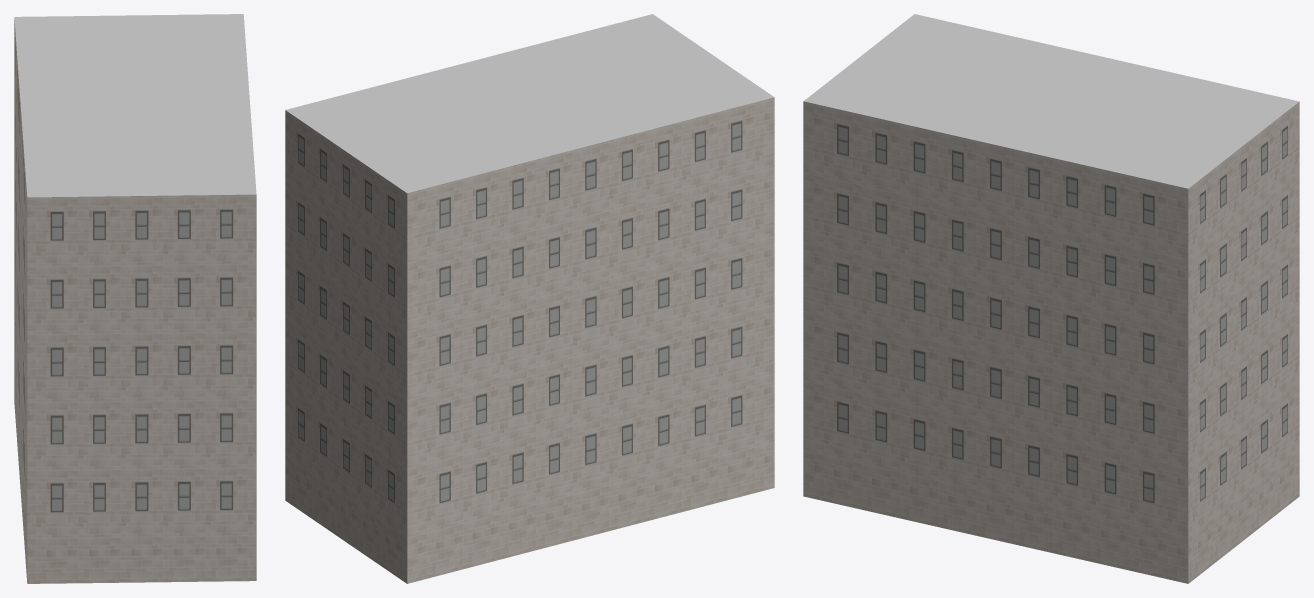
The model's file is building-1-0-210.dae.
3 views of the same model, side by side, from view 1: azimuth 30°, elevation 25°; view 2: azimuth 150°, elevation 25°; view 3: azimuth 270°, elevation 25° (orthographic). The views are drawn at different scales.
Parts seen in each view (by area): view 1: geopipeinodex24o_LVF (×3); view 2: geopipeinodex24o_LVF (×3); view 3: geopipeinodex24o_LVF (×3).
Boxes of the visible parts, x1,y1,x2,y2 form: geopipeinodex24o_LVF (×3): (14,14,256,583); geopipeinodex24o_LVF (×3): (285,14,774,583); geopipeinodex24o_LVF (×3): (803,14,1299,583).
Size of the model in its own units: 27.03 by 32.42 by 28.5.
